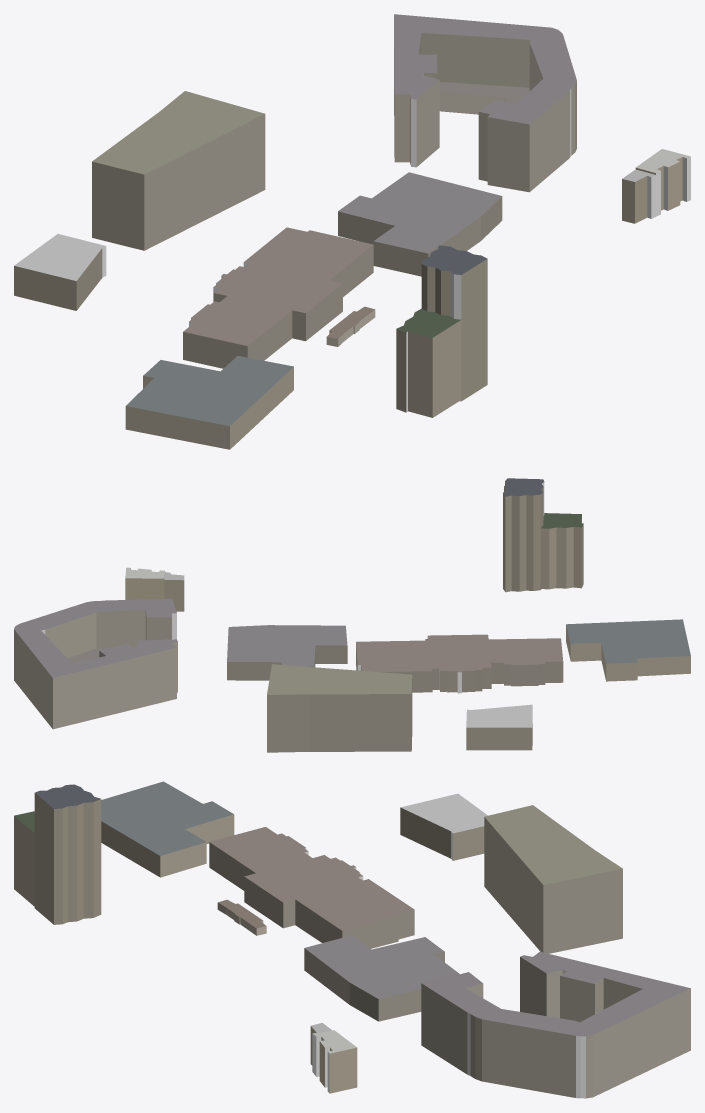
3 views of the same model, one above another, from view 1: azimuth 30°, elevation 25°; view 2: azimuth 150°, elevation 25°; view 3: azimuth 270°, elevation 25° (orthographic). The views are drawn at different scales.
Parts seen in each view (by area): view 1: tuile; view 2: tuile; view 3: tuile.
Part boxes in pixels (x1,y1,x2,y2): tuile: [14, 14, 690, 449]; tuile: [14, 478, 690, 752]; tuile: [14, 781, 690, 1098].
Size of the model in its own units: 297 by 60.27 by 286.
